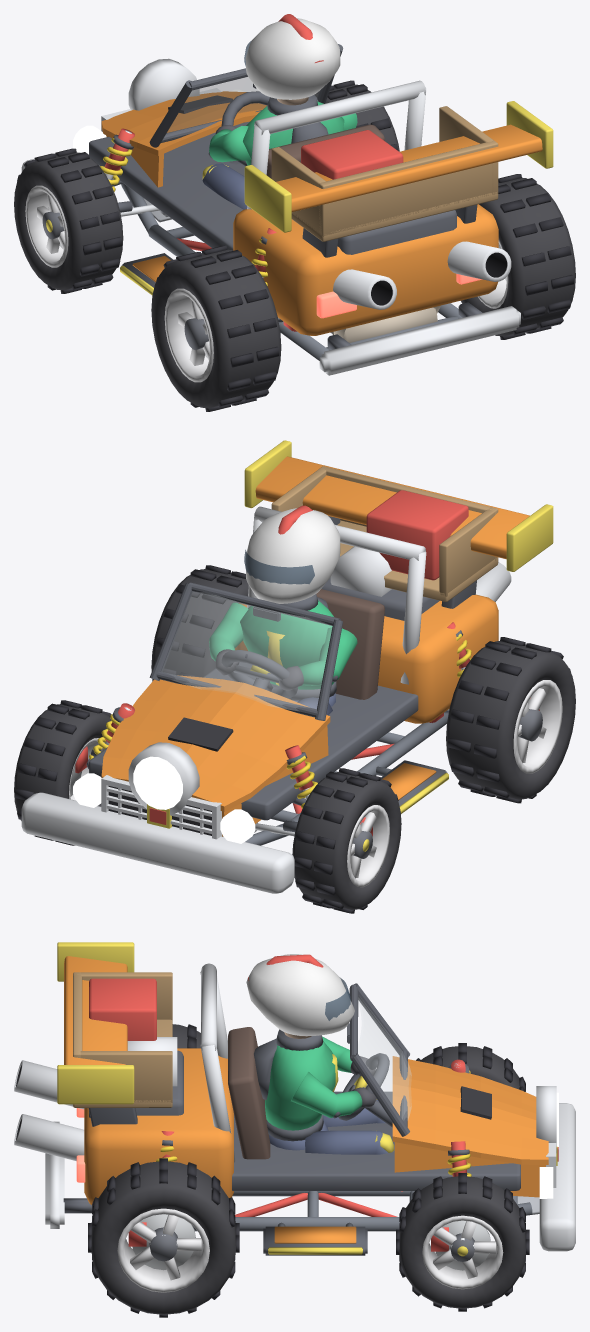
The model's file is bajaj_kart.glb.
The picture shows the model from 3 angles, top to bottom: view 1: azimuth 30°, elevation 25°; view 2: azimuth 150°, elevation 25°; view 3: azimuth 270°, elevation 25°; orthographic projection. The views are drawn at different scales.
Parts seen in each view (by area): view 1: RearCowling, Wheel_RL_Tire, Wheel_FL_Tire, Wheel_RR_Tire, ChassisBase, BasketWall_B, WingBlade, DriverHelmet, RearBumper, ThinHoodShell, Wheel_RL_Tread, BasketBox (+40 smaller); view 2: ThinHoodShell, ThinWindshieldGlass, FrontBumper, Wheel_RL_Tire, RearCowling, Wheel_FL_Tire, DriverHelmet, ChassisBase, WingBlade, BasketBox, Wheel_FR_Tire, SeatBack (+37 smaller); view 3: Wheel_RR_Tire, ThinHoodShell, RearCowling, ChassisBase, Wheel_FR_Tire, DriverHelmet, DriverTorso, SeatBack, FrontBumper, WingBlade, BasketBox, ThinWindshieldGlass (+49 smaller).
Part boxes in pixels (bbox=[...]): RearCowling: bbox=[233, 204, 498, 335]; Wheel_RL_Tire: bbox=[151, 249, 281, 408]; Wheel_FL_Tire: bbox=[14, 152, 123, 290]; Wheel_RR_Tire: bbox=[461, 177, 575, 336]; ChassisBase: bbox=[89, 121, 249, 250]; BasketWall_B: bbox=[319, 140, 498, 236]; WingBlade: bbox=[276, 124, 542, 211]; DriverHelmet: bbox=[245, 18, 340, 99]; RearBumper: bbox=[319, 306, 520, 375]; ThinHoodShell: bbox=[101, 91, 266, 155]; Wheel_RL_Tread: bbox=[156, 245, 279, 411]; BasketBox: bbox=[301, 130, 403, 179]; ThinHoodShell: bbox=[101, 675, 330, 811]; ThinWindshieldGlass: bbox=[162, 591, 332, 710]; FrontBumper: bbox=[21, 792, 294, 893]; Wheel_RL_Tire: bbox=[446, 641, 575, 799]; RearCowling: bbox=[235, 594, 498, 723]; Wheel_FL_Tire: bbox=[292, 772, 401, 909]; DriverHelmet: bbox=[246, 508, 340, 603]; ChassisBase: bbox=[89, 662, 418, 820]; WingBlade: bbox=[255, 456, 529, 559]; BasketBox: bbox=[366, 490, 468, 580]; Wheel_FR_Tire: bbox=[14, 704, 111, 820]; SeatBack: bbox=[316, 589, 384, 699]; Wheel_RR_Tire: bbox=[91, 1161, 236, 1314]; ThinHoodShell: bbox=[392, 1056, 548, 1164]; RearCowling: bbox=[84, 1048, 233, 1204]; ChassisBase: bbox=[232, 1091, 520, 1190]; Wheel_FR_Tire: bbox=[399, 1176, 525, 1308]; DriverHelmet: bbox=[246, 954, 354, 1036]; DriverTorso: bbox=[265, 1041, 335, 1130]; SeatBack: bbox=[228, 1027, 270, 1159]; FrontBumper: bbox=[539, 1103, 575, 1251]; WingBlade: bbox=[64, 956, 127, 1064]; BasketBox: bbox=[89, 978, 156, 1040]; ThinWindshieldGlass: bbox=[358, 996, 411, 1120].
Size of the model in its own units: 1.74 by 1.38 by 2.48.
